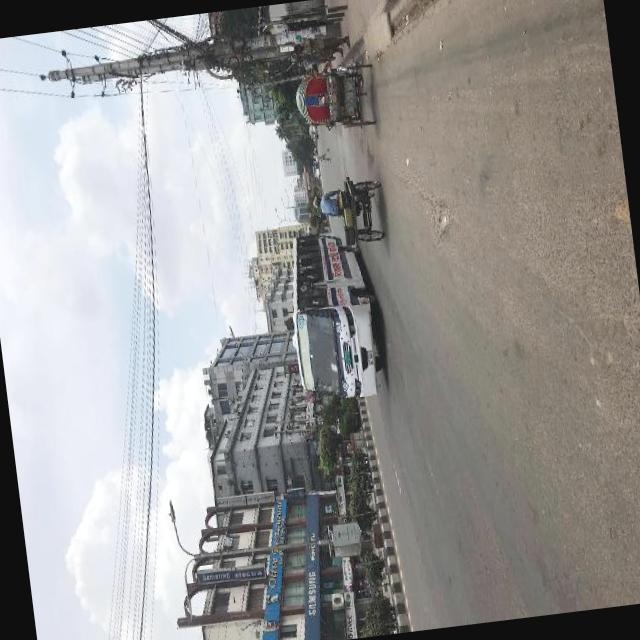bus: (278, 226, 388, 406)
car: (314, 168, 320, 179)
motorcycle: (288, 58, 379, 138), (308, 172, 392, 255), (309, 131, 318, 140)
